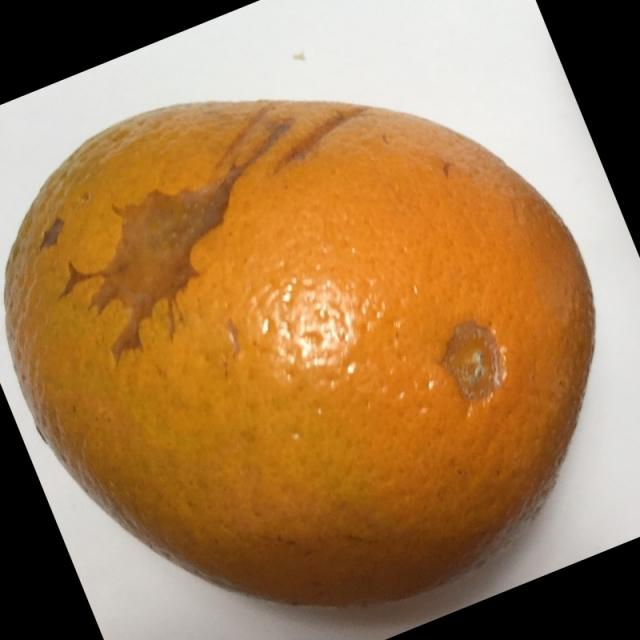canker: (0, 70, 612, 623)
